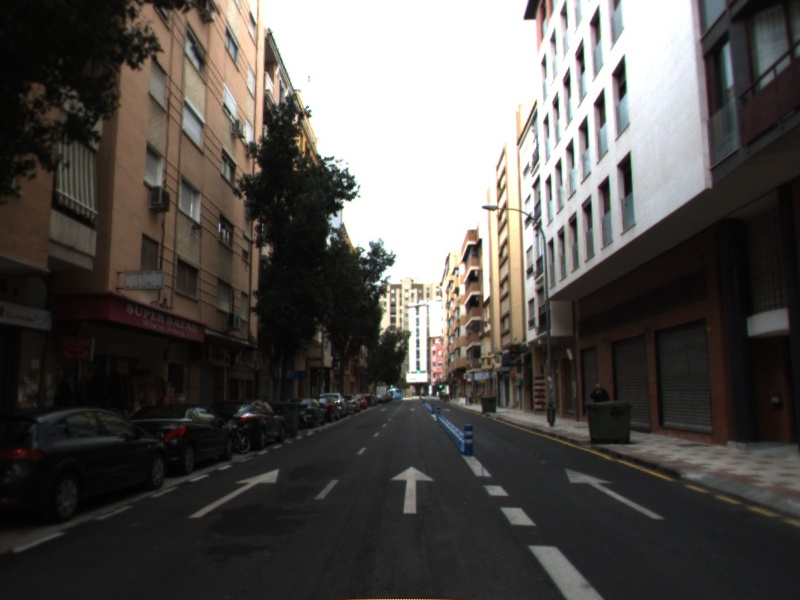STRAIGHT: (563, 466, 666, 521), (186, 467, 281, 520), (389, 465, 437, 515)
